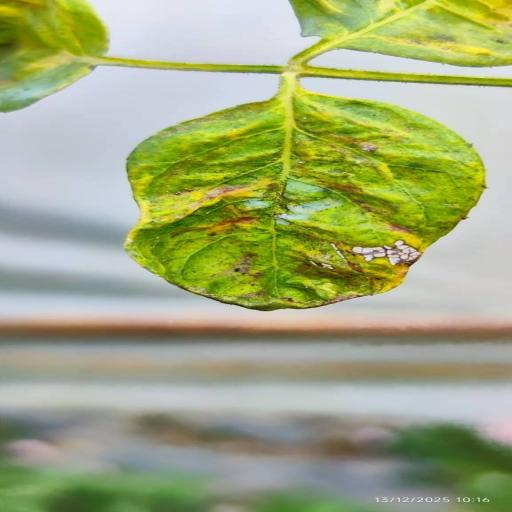thrip: (125, 78, 484, 310)
